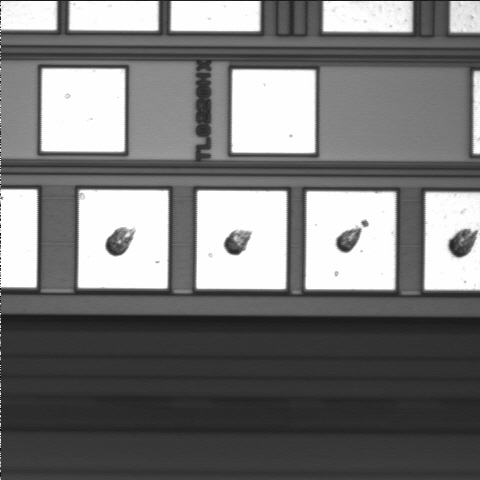pad: (196, 191, 287, 289), (78, 190, 168, 289), (306, 191, 396, 290), (42, 69, 125, 152), (232, 70, 315, 153)
